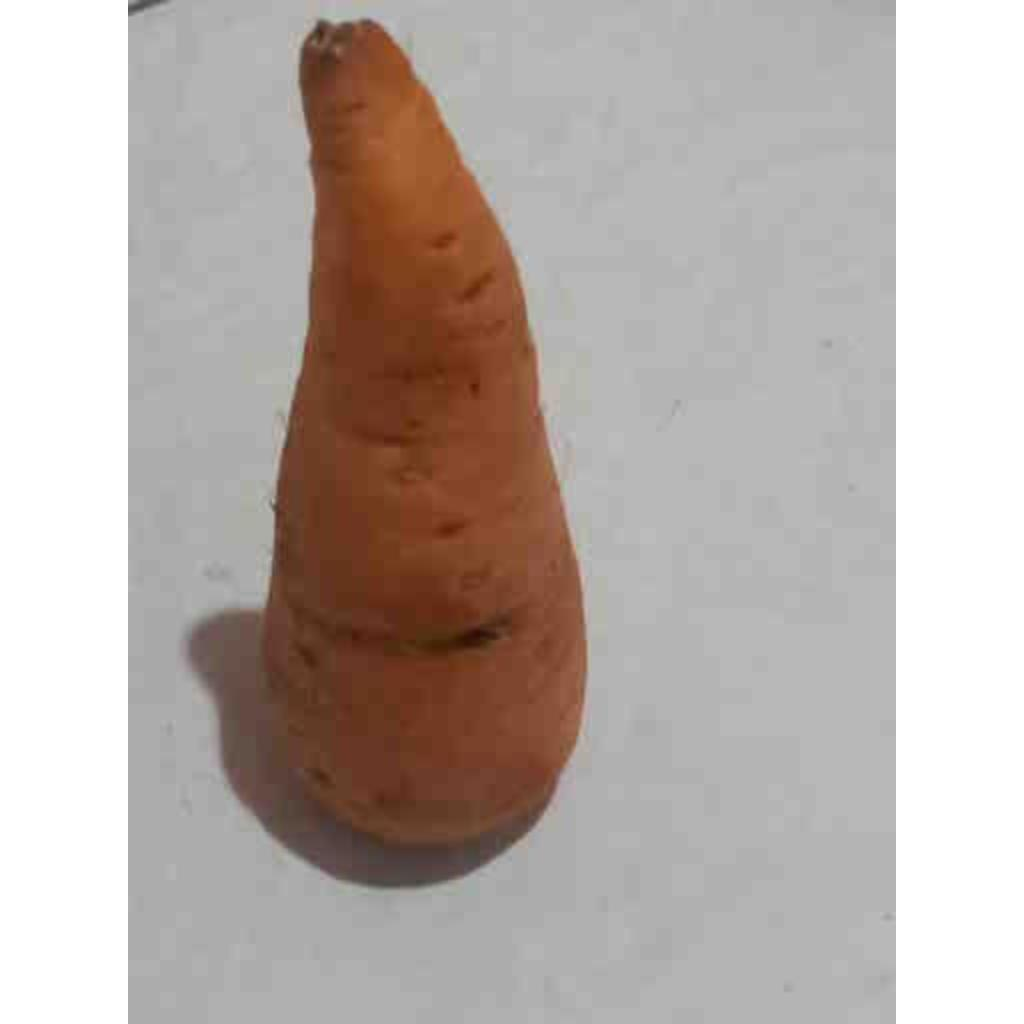carrot: (264, 22, 586, 843)
